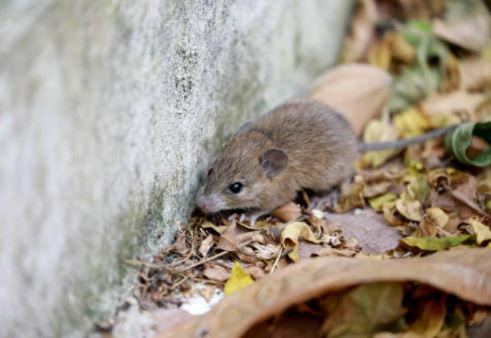rat: (194, 100, 455, 226)
